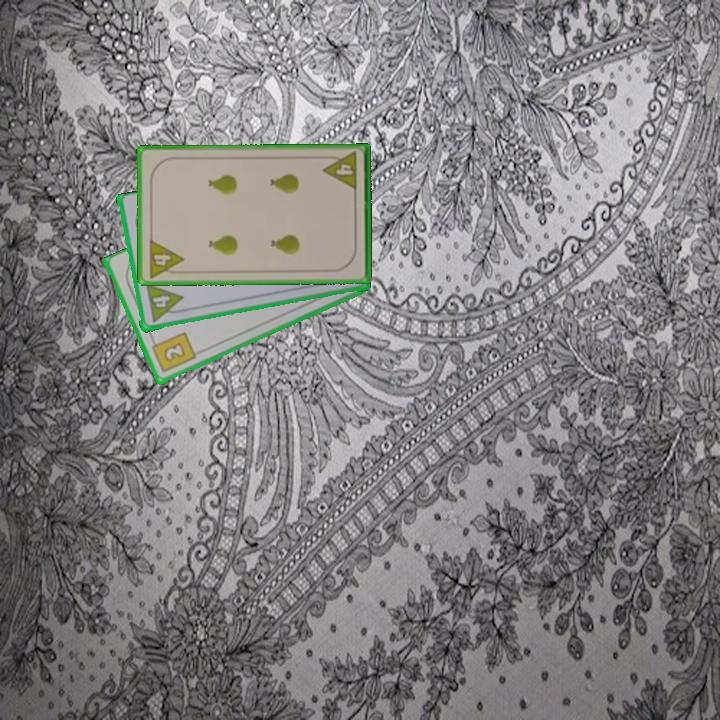2b: (148, 329, 198, 376)
4p: (145, 236, 186, 280), (320, 149, 360, 193), (145, 281, 184, 313)
